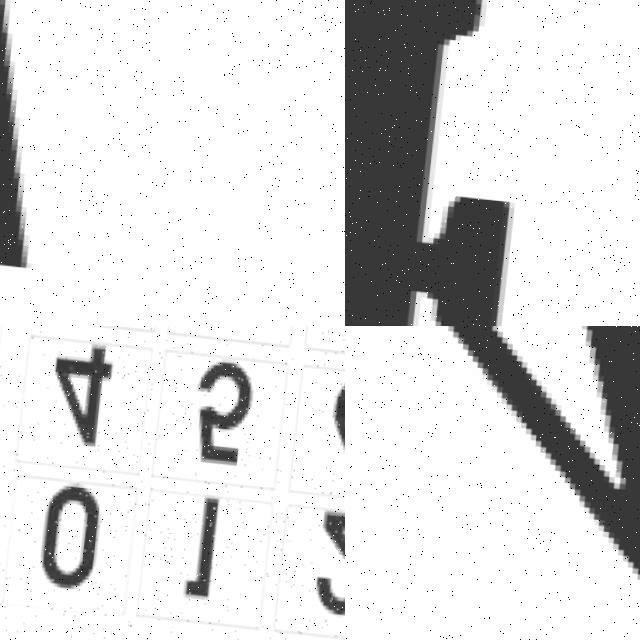0: (34, 481, 112, 596)
1: (177, 493, 232, 605)
2: (306, 506, 345, 626)
4: (45, 340, 123, 455)
5: (186, 356, 262, 473)
6: (327, 370, 345, 485)
F: (345, 0, 561, 326)
J: (0, 0, 90, 277)
